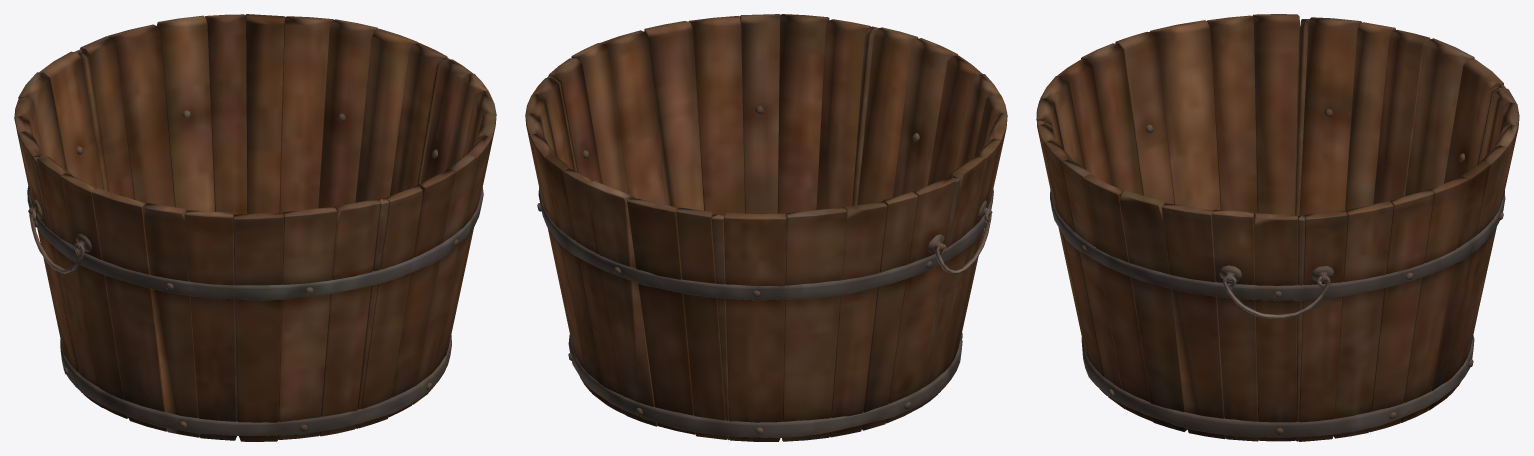
Rendered from bucket-wooden-02.0b9254d5.glb.
The picture shows the model from 3 angles, left to right: view 1: azimuth 30°, elevation 25°; view 2: azimuth 150°, elevation 25°; view 3: azimuth 270°, elevation 25°; orthographic projection.
Visible parts, largest first — view 1: model; view 2: model; view 3: model.
Boxes of the visible parts, x1=… form: model: x1=14, y1=14, x2=496, y2=441; model: x1=525, y1=14, x2=1007, y2=441; model: x1=1036, y1=14, x2=1519, y2=441.
Bounding box in the file's own units: 0.6153 × 0.3504 × 0.6163.
1 material, 1 textured.
